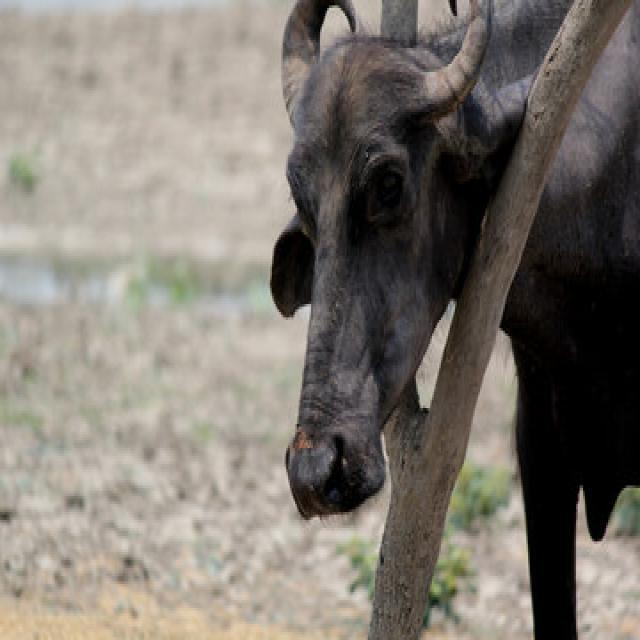Buffalo: (266, 0, 638, 637)
